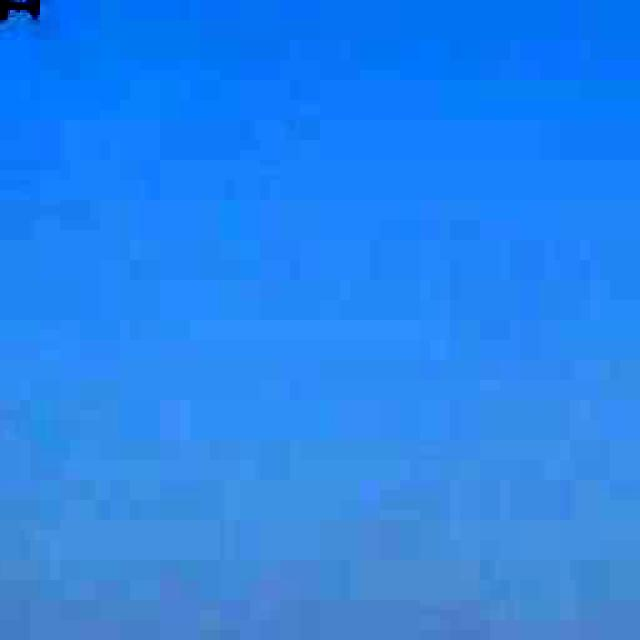bird: (0, 0, 39, 39)
